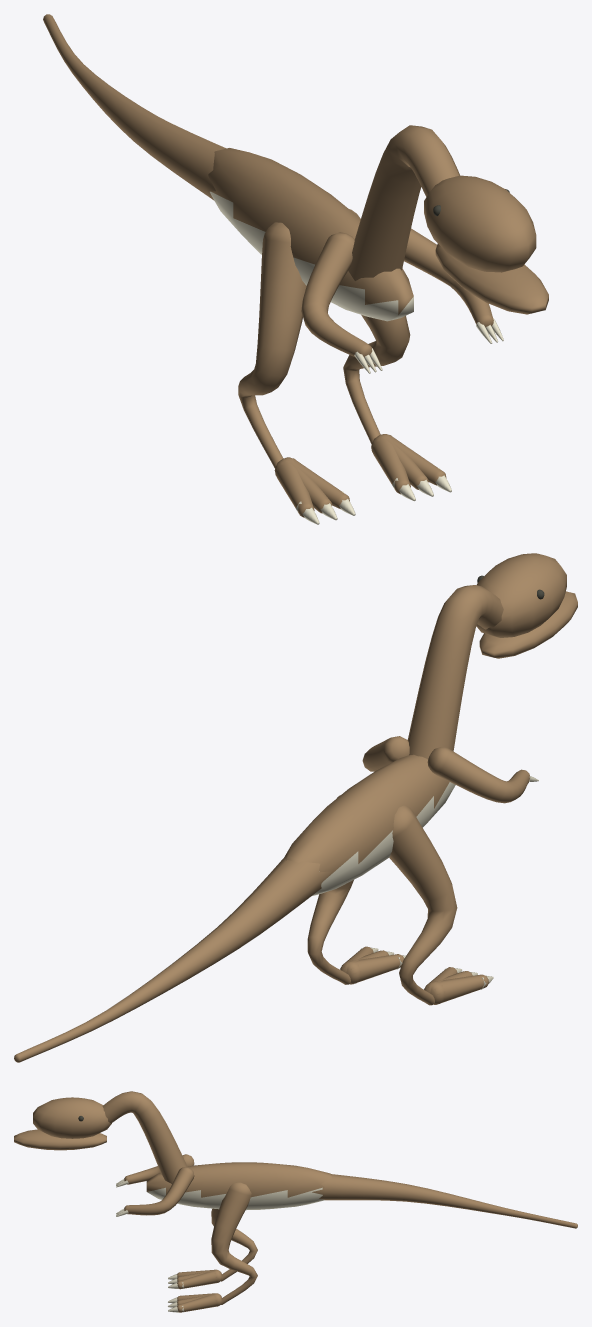
File: compsognathus.glb
3 renders of one model, top to bottom at view 1: azimuth 30°, elevation 25°; view 2: azimuth 150°, elevation 25°; view 3: azimuth 270°, elevation 25°, orthographic. The views are drawn at different scales.
Parts seen in each view (by area): view 1: compsognathus; view 2: compsognathus; view 3: compsognathus.
Boxes of the visible parts, x1,y1,x2,y2 form: compsognathus: (43, 14, 548, 524); compsognathus: (14, 553, 577, 1062); compsognathus: (14, 1091, 577, 1312).
Bounding box in the file's own units: 0.1918 × 0.4394 × 1.1.
